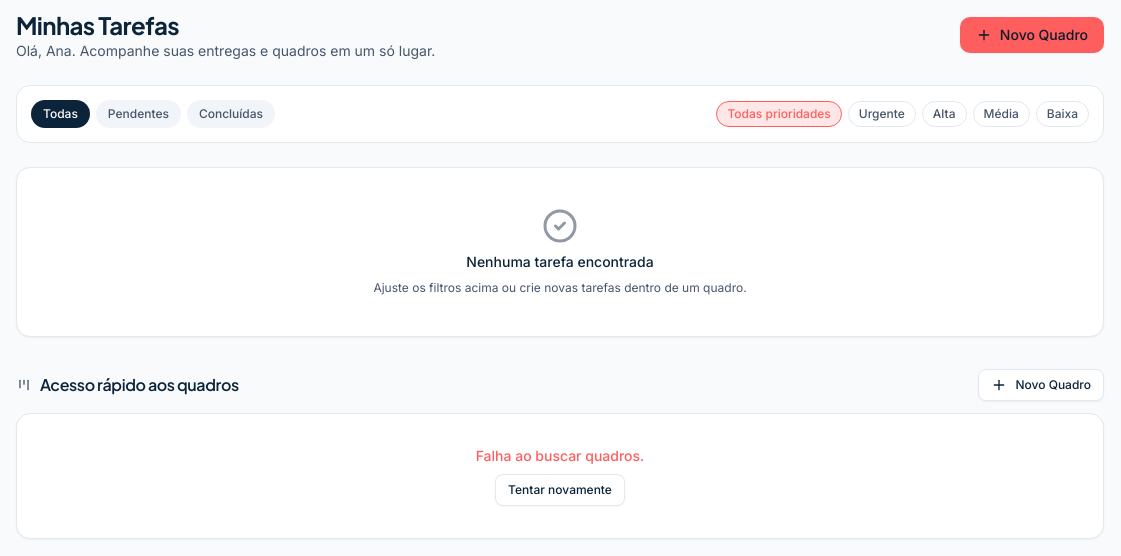
Test case: MyTasksPage › rendersBoardsErrorStateWithRetryInsteadOfEmptyMessageWhenBoardsRequestFails
Expected: the text "Falha ao buscar quadros." is shown, [476,447,644,464]
Click the button "Tentar novamente". click: (560, 490)
box: [495,474,625,506]
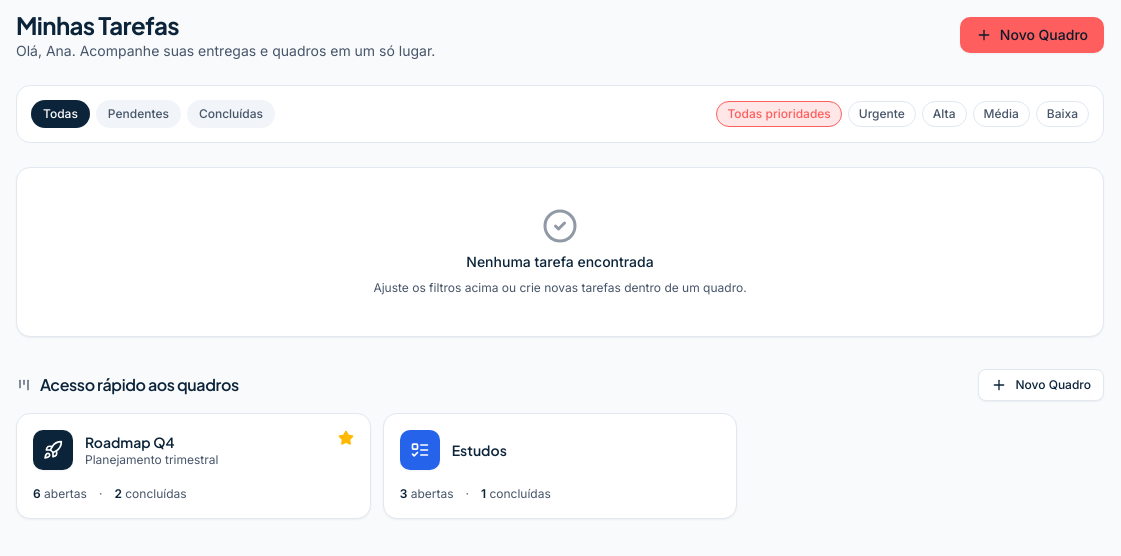
Now the heading "Roadmap Q4" is shown, box [85,433,174,451]
